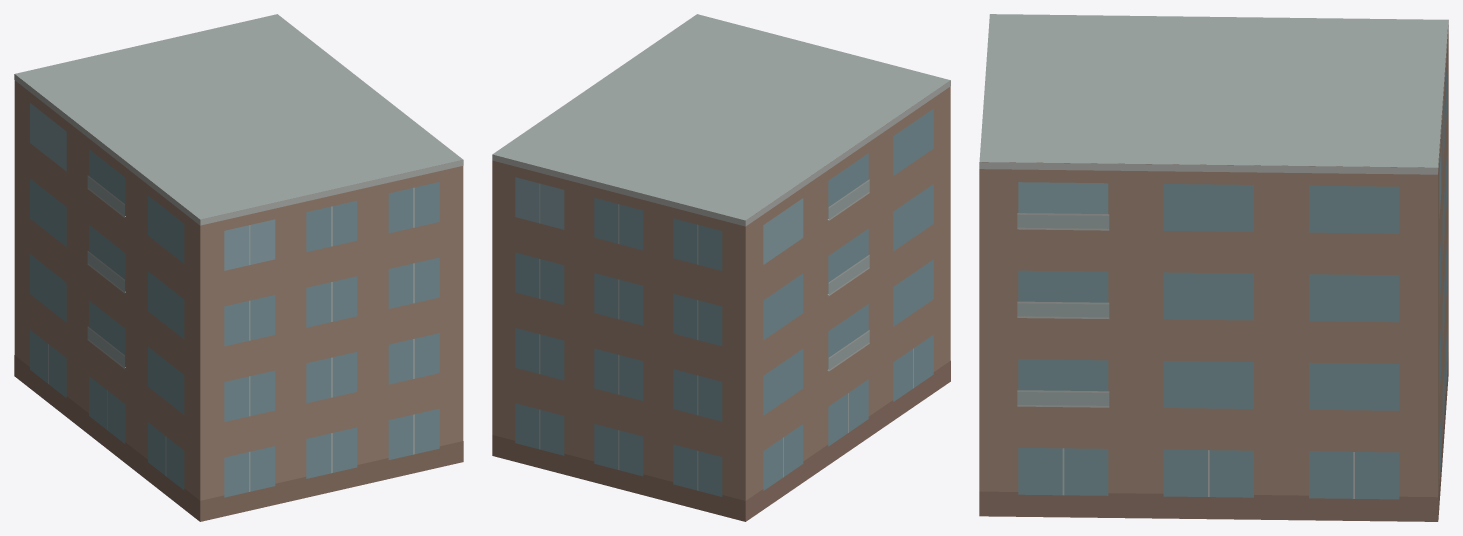
File: residential-c1fca762-48b4-41bb-9220-b0b0d8ae4b69.glb
The picture shows the model from 3 angles, left to right: view 1: azimuth 30°, elevation 25°; view 2: azimuth 150°, elevation 25°; view 3: azimuth 270°, elevation 25°; orthographic projection. The views are drawn at different scales.
Visible parts, largest first — view 1: residential-c1fca762-48b4-41bb-9220-b0b0d8ae4b69.tmp; view 2: residential-c1fca762-48b4-41bb-9220-b0b0d8ae4b69.tmp; view 3: residential-c1fca762-48b4-41bb-9220-b0b0d8ae4b69.tmp.
Part boxes in pixels (box(x1,y1,x2,y2)): residential-c1fca762-48b4-41bb-9220-b0b0d8ae4b69.tmp: box(14, 14, 463, 521); residential-c1fca762-48b4-41bb-9220-b0b0d8ae4b69.tmp: box(492, 14, 950, 521); residential-c1fca762-48b4-41bb-9220-b0b0d8ae4b69.tmp: box(979, 14, 1448, 521).
Bounding box in the file's own units: 11.35 × 12.2 × 14.65.
